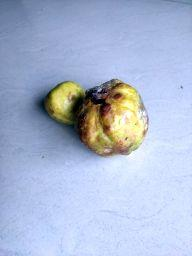guava: (75, 75, 150, 159), (39, 77, 91, 131)
